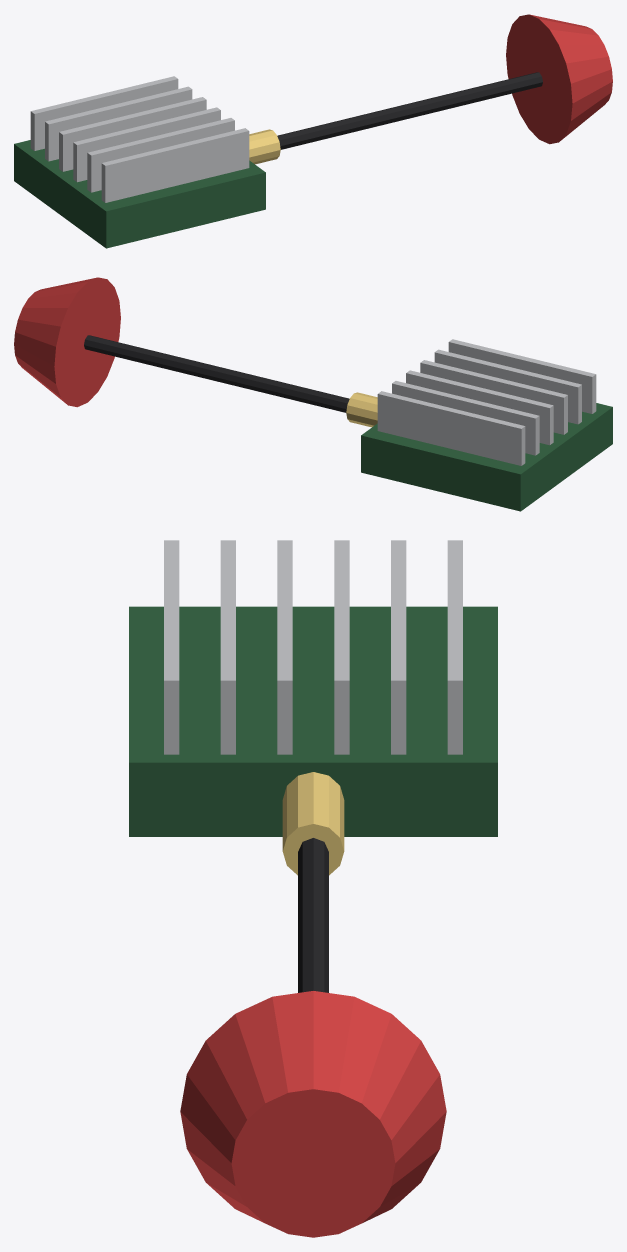
Rendered from Vtx_58_2500.glb.
3 views of the same model, one above another, from view 1: azimuth 30°, elevation 25°; view 2: azimuth 150°, elevation 25°; view 3: azimuth 270°, elevation 25° (orthographic). The views are drawn at different scales.
Parts seen in each view (by area): view 1: Vtx_58_2500, Cap.001, Fin, Coax.001, Fin.005, Fin.001, Fin.002, Fin.003, Fin.004, SMA.001; view 2: Vtx_58_2500, Cap.001, Fin.005, Coax.001, Fin, Fin.004, Fin.003, Fin.002, Fin.001, SMA.001; view 3: Vtx_58_2500, Cap.001, SMA.001, Coax.001, Fin, Fin.001, Fin.002, Fin.003, Fin.004, Fin.005.
Part boxes in pixels (x1,y1,x2,y2): Vtx_58_2500: (14,140,265,248); Cap.001: (506,14,612,144); Fin: (101,128,249,202); Coax.001: (277,72,542,149); Fin.005: (30,76,178,150); Fin.001: (87,118,234,192); Fin.002: (73,107,220,182); Fin.003: (59,97,206,171); Fin.004: (45,86,192,161); SMA.001: (249,129,280,164); Vtx_58_2500: (361,403,612,511); Cap.001: (14,277,120,407); Fin.005: (377,391,525,465); Coax.001: (84,335,349,412); Fin: (448,339,596,413); Fin.004: (392,381,539,455); Fin.003: (406,370,553,445); Fin.002: (420,360,567,434); Fin.001: (434,349,581,424); SMA.001: (346,392,377,427); Vtx_58_2500: (129,606,497,836); Cap.001: (180,991,446,1237); SMA.001: (282,772,344,875); Coax.001: (298,838,328,992); Fin: (164,540,179,754); Fin.001: (220,540,235,754); Fin.002: (277,540,292,754); Fin.003: (334,540,349,754); Fin.004: (391,540,406,754); Fin.005: (447,540,462,754).
Size of the model in its own units: 0.12 by 0.026 by 0.036.
